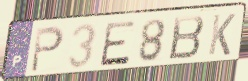3: (68, 21, 100, 71)
8: (136, 18, 168, 64)
B: (166, 14, 206, 62)
E: (98, 19, 137, 68)
K: (206, 12, 237, 57)
P: (29, 25, 66, 75)
